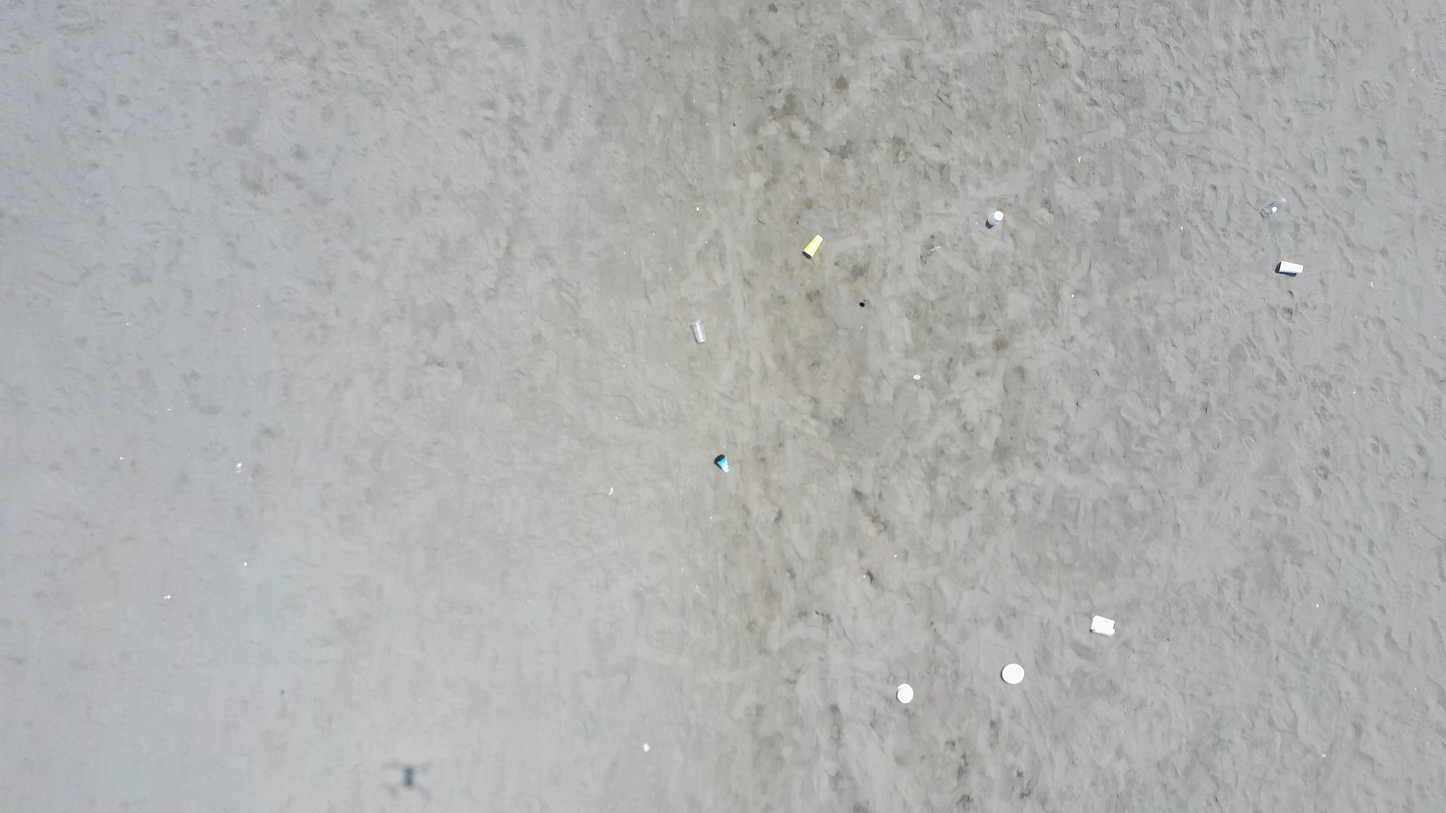Garbage: (1260, 197, 1286, 217), (1000, 663, 1023, 684), (1091, 615, 1114, 636), (1275, 260, 1303, 276), (803, 234, 822, 257), (896, 683, 913, 702), (986, 210, 1003, 227), (713, 454, 729, 472), (692, 320, 704, 342), (643, 742, 650, 752), (913, 373, 921, 378)
